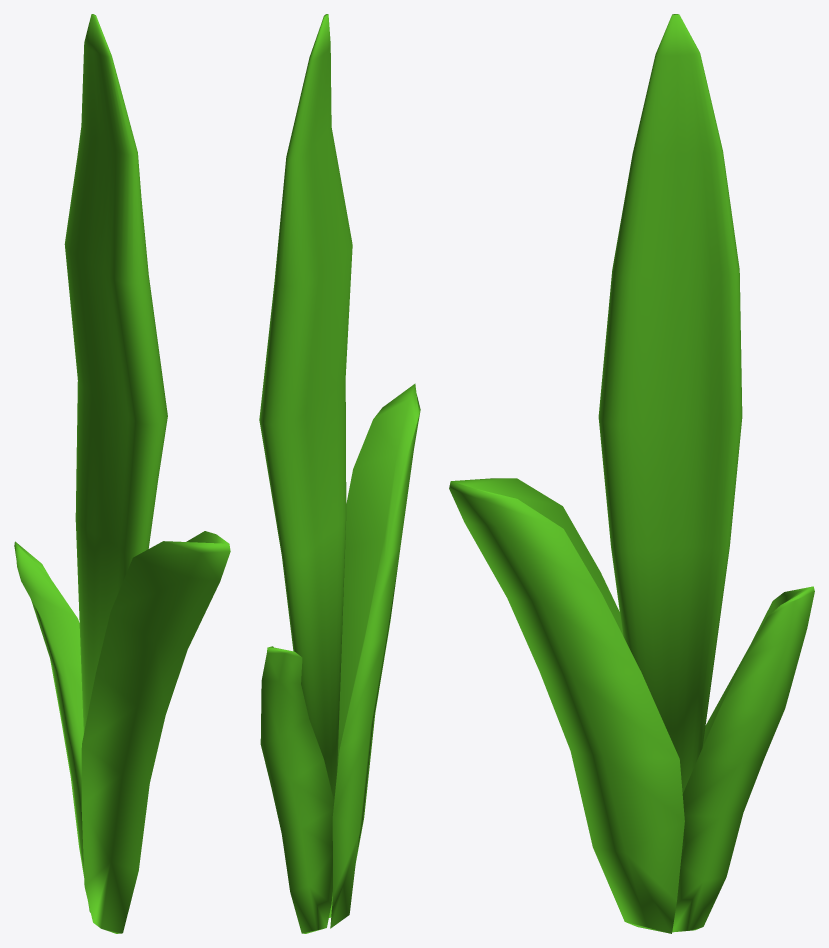
Rendered from wheat1.fbx.
The picture shows the model from 3 angles, left to right: view 1: azimuth 30°, elevation 25°; view 2: azimuth 150°, elevation 25°; view 3: azimuth 270°, elevation 25°; orthographic projection.
Parts seen in each view (by area): view 1: wheat stage 1; view 2: wheat stage 1; view 3: wheat stage 1.
Part boxes in pixels (bbox=[...]): wheat stage 1: bbox=[14, 14, 230, 933]; wheat stage 1: bbox=[259, 14, 420, 933]; wheat stage 1: bbox=[449, 14, 814, 933].
Bounding box in the file's own units: 1.9 × 24.15 × 8.8.
